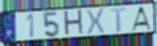1: (26, 13, 35, 39)
5: (41, 10, 61, 39)
A: (130, 5, 153, 32)
H: (63, 9, 85, 38)
T: (110, 7, 127, 33)
X: (86, 7, 106, 36)
